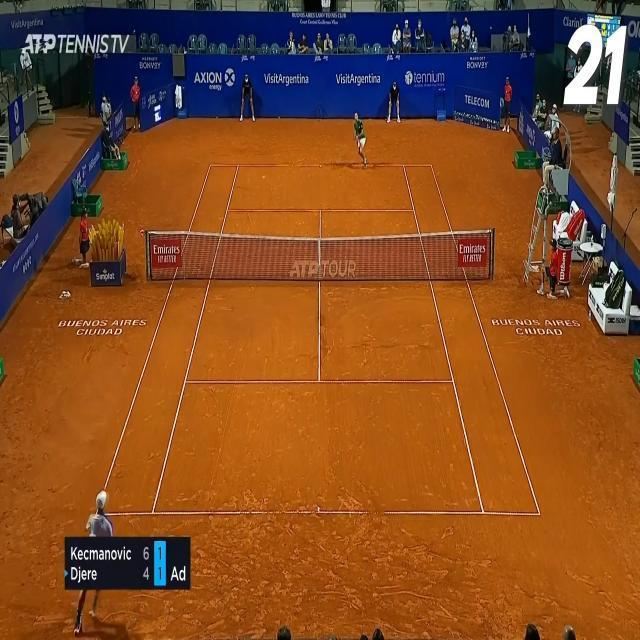court: (95, 165, 541, 517)
net: (144, 229, 496, 282)
player: (75, 489, 114, 626)
